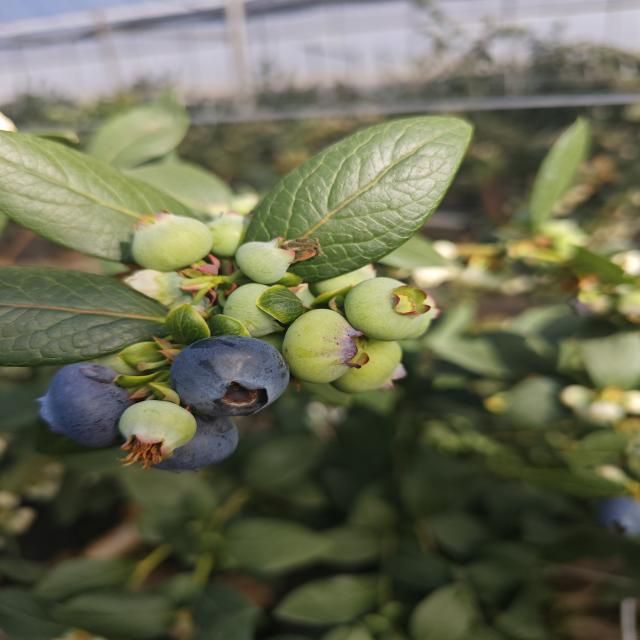ripe: (156, 329, 284, 406), (138, 411, 244, 479), (43, 368, 122, 448), (602, 479, 640, 537)
